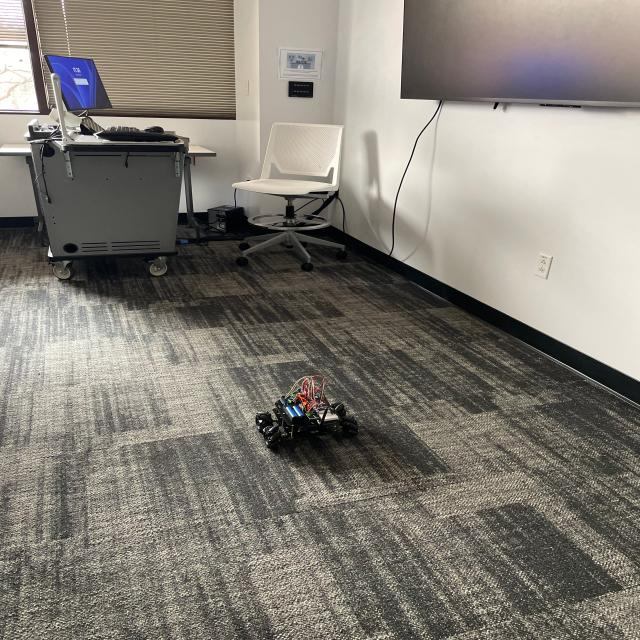ArduinoCar: (244, 375, 358, 452)
